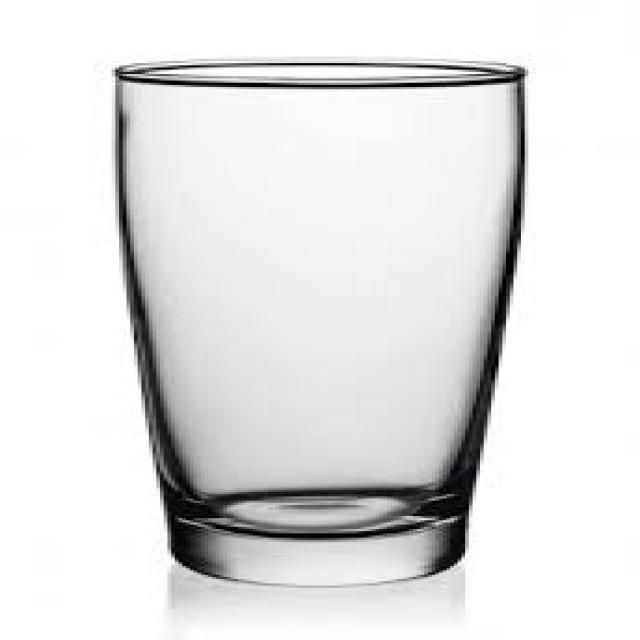Glass-Bottle: (86, 49, 549, 597)
